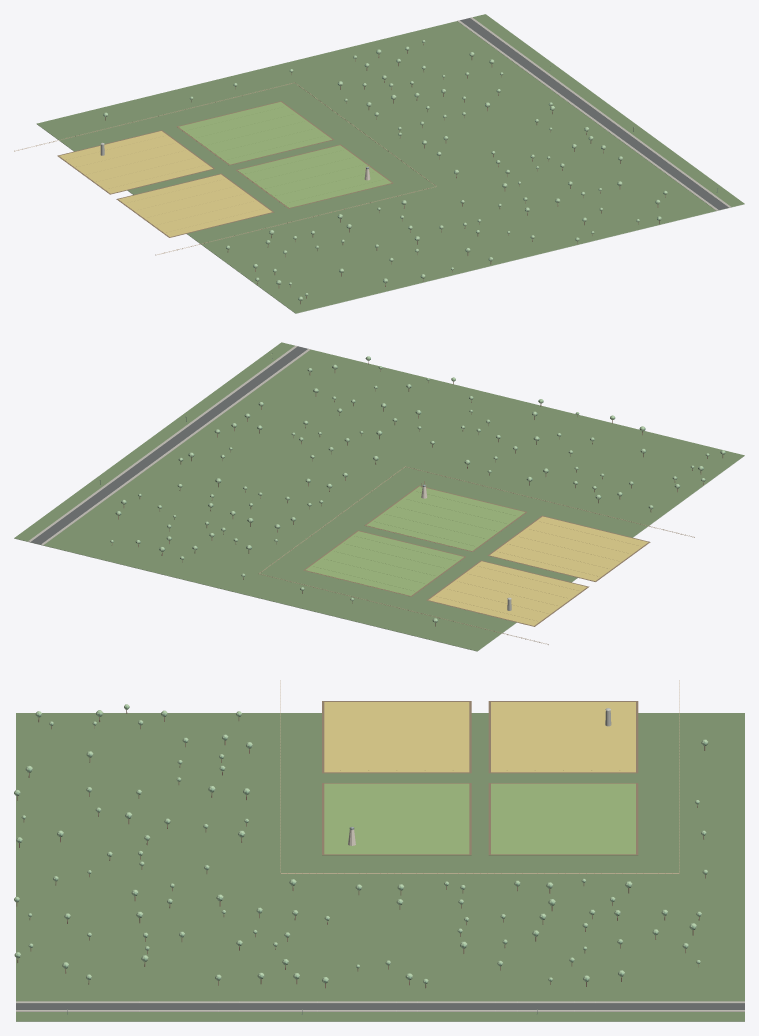
The model's file is chunk_5_6_high.glb.
The picture shows the model from 3 angles, top to bottom: view 1: azimuth 30°, elevation 25°; view 2: azimuth 150°, elevation 25°; view 3: azimuth 270°, elevation 25°; orthographic projection. The views are drawn at different scales.
Parts seen in each view (by area): view 1: city_forest_floor, city_field_wheat, city_field_corn, city_world_asphalt, city_field_soil, city_foliage, city_world_sidewalk, city_wood, city_grass, city_foliage_dark; view 2: city_forest_floor, city_field_wheat, city_field_corn, city_world_asphalt, city_field_soil, city_foliage, city_world_sidewalk, city_wood, city_foliage_dark, city_grass, city_curb; view 3: city_forest_floor, city_field_corn, city_field_wheat, city_world_asphalt, city_field_soil, city_world_sidewalk, city_foliage, city_curb, city_foliage_dark, city_wood, city_bark, city_grass.
Part boxes in pixels (x1,y1,x2,y2): city_forest_floor: (37, 14, 744, 313); city_field_wheat: (59, 131, 271, 236); city_field_corn: (178, 102, 391, 207); city_world_asphalt: (460, 18, 728, 209); city_field_soil: (57, 101, 393, 237); city_foliage: (103, 40, 667, 300); city_world_sidewalk: (457, 17, 730, 210); city_wood: (14, 82, 436, 255); city_grass: (37, 124, 744, 313); city_foliage_dark: (103, 41, 667, 300); city_forest_floor: (14, 342, 744, 651); city_field_wheat: (428, 516, 648, 625); city_field_corn: (305, 486, 524, 595); city_world_asphalt: (30, 346, 307, 544); city_field_soil: (303, 485, 650, 626); city_foliage: (110, 356, 724, 622); city_world_sidewalk: (28, 345, 310, 545); city_wood: (258, 466, 694, 644); city_foliage_dark: (110, 357, 725, 621); city_grass: (14, 455, 744, 651); city_curb: (30, 346, 307, 544); city_forest_floor: (16, 713, 744, 1021); city_field_corn: (324, 783, 635, 854); city_field_wheat: (324, 702, 635, 772); city_world_asphalt: (16, 1003, 744, 1009); city_field_soil: (322, 701, 638, 855); city_world_sidewalk: (16, 1001, 744, 1011); city_foliage: (14, 704, 708, 983); city_curb: (16, 1001, 744, 1011); city_foliage_dark: (15, 706, 707, 983); city_wood: (280, 680, 679, 873); city_bark: (16, 709, 705, 988); city_grass: (16, 1021, 744, 1021).
Bounding box in the file's own units: 564 × 17.91 × 513.
